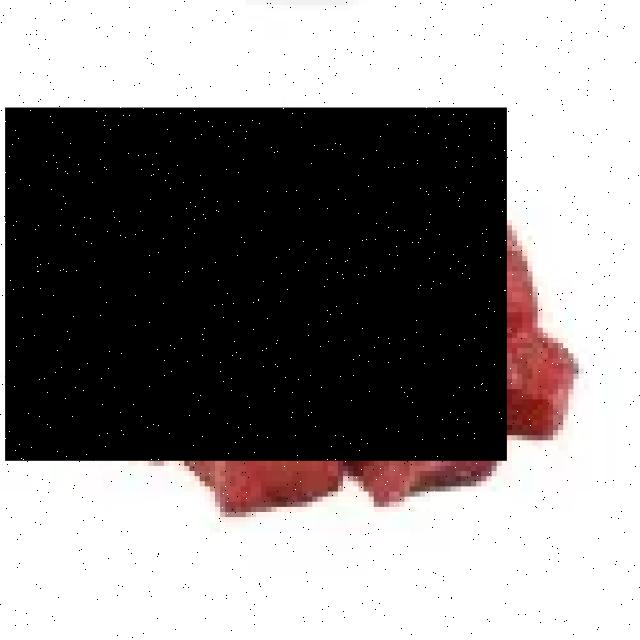Mutton: (9, 112, 510, 465)
